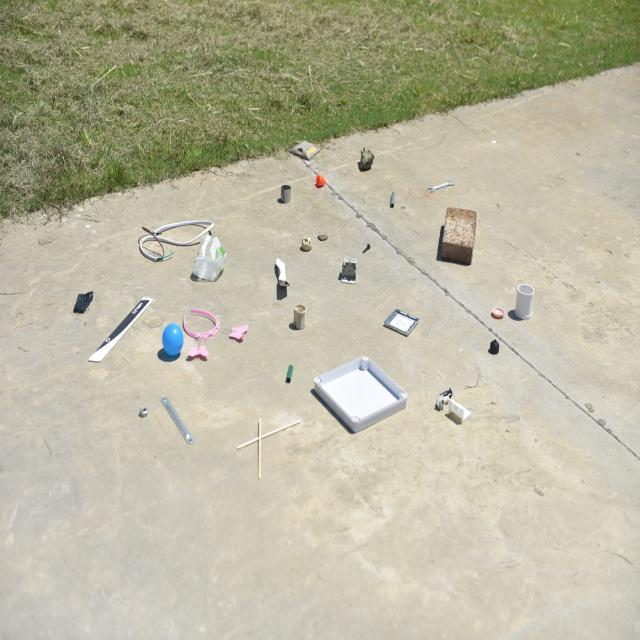Debris: (315, 356, 397, 428), (95, 298, 154, 372), (123, 203, 189, 257), (437, 200, 481, 280), (155, 398, 199, 449), (198, 230, 226, 282), (509, 284, 538, 328), (416, 173, 465, 199), (438, 384, 468, 426), (252, 416, 270, 484), (159, 314, 181, 364), (388, 303, 420, 335), (285, 134, 323, 160), (270, 252, 294, 289), (70, 286, 94, 315), (298, 229, 321, 258), (339, 258, 363, 284), (355, 150, 376, 176), (275, 182, 297, 206), (292, 303, 308, 336), (489, 300, 508, 324), (313, 170, 331, 195), (312, 224, 333, 242), (486, 332, 504, 351), (286, 352, 296, 386), (386, 185, 399, 207), (134, 409, 152, 423), (364, 239, 376, 254)
